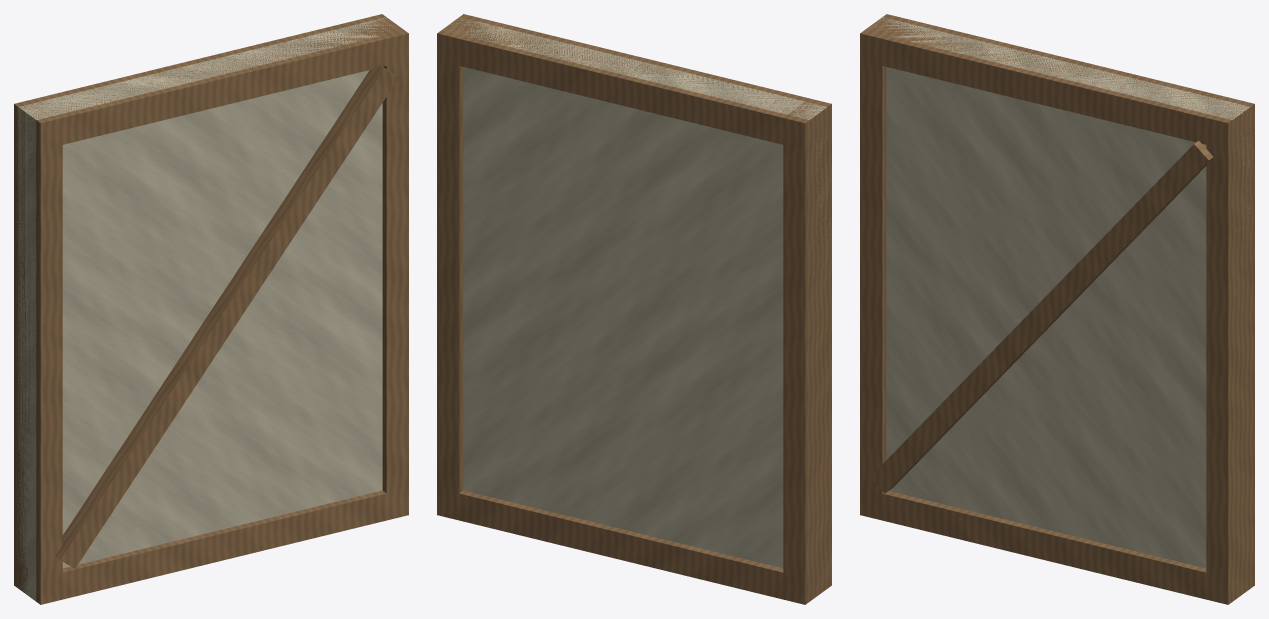
The model's file is wall_solid_2m.glb.
The picture shows the model from 3 angles, left to right: view 1: azimuth 30°, elevation 25°; view 2: azimuth 150°, elevation 25°; view 3: azimuth 330°, elevation 25°; orthographic projection.
Visible parts, largest first — view 1: wall_solid_2m; view 2: wall_solid_2m; view 3: wall_solid_2m.
Boxes of the visible parts, bbox=[...] form: wall_solid_2m: bbox=[14, 14, 408, 604]; wall_solid_2m: bbox=[437, 14, 831, 604]; wall_solid_2m: bbox=[860, 14, 1254, 604].
Bounding box in the file's own units: 2 × 2.5 × 0.295.
2 materials, 2 textured.
